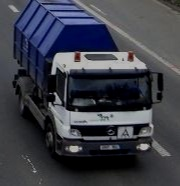truck: (13, 0, 163, 159)
